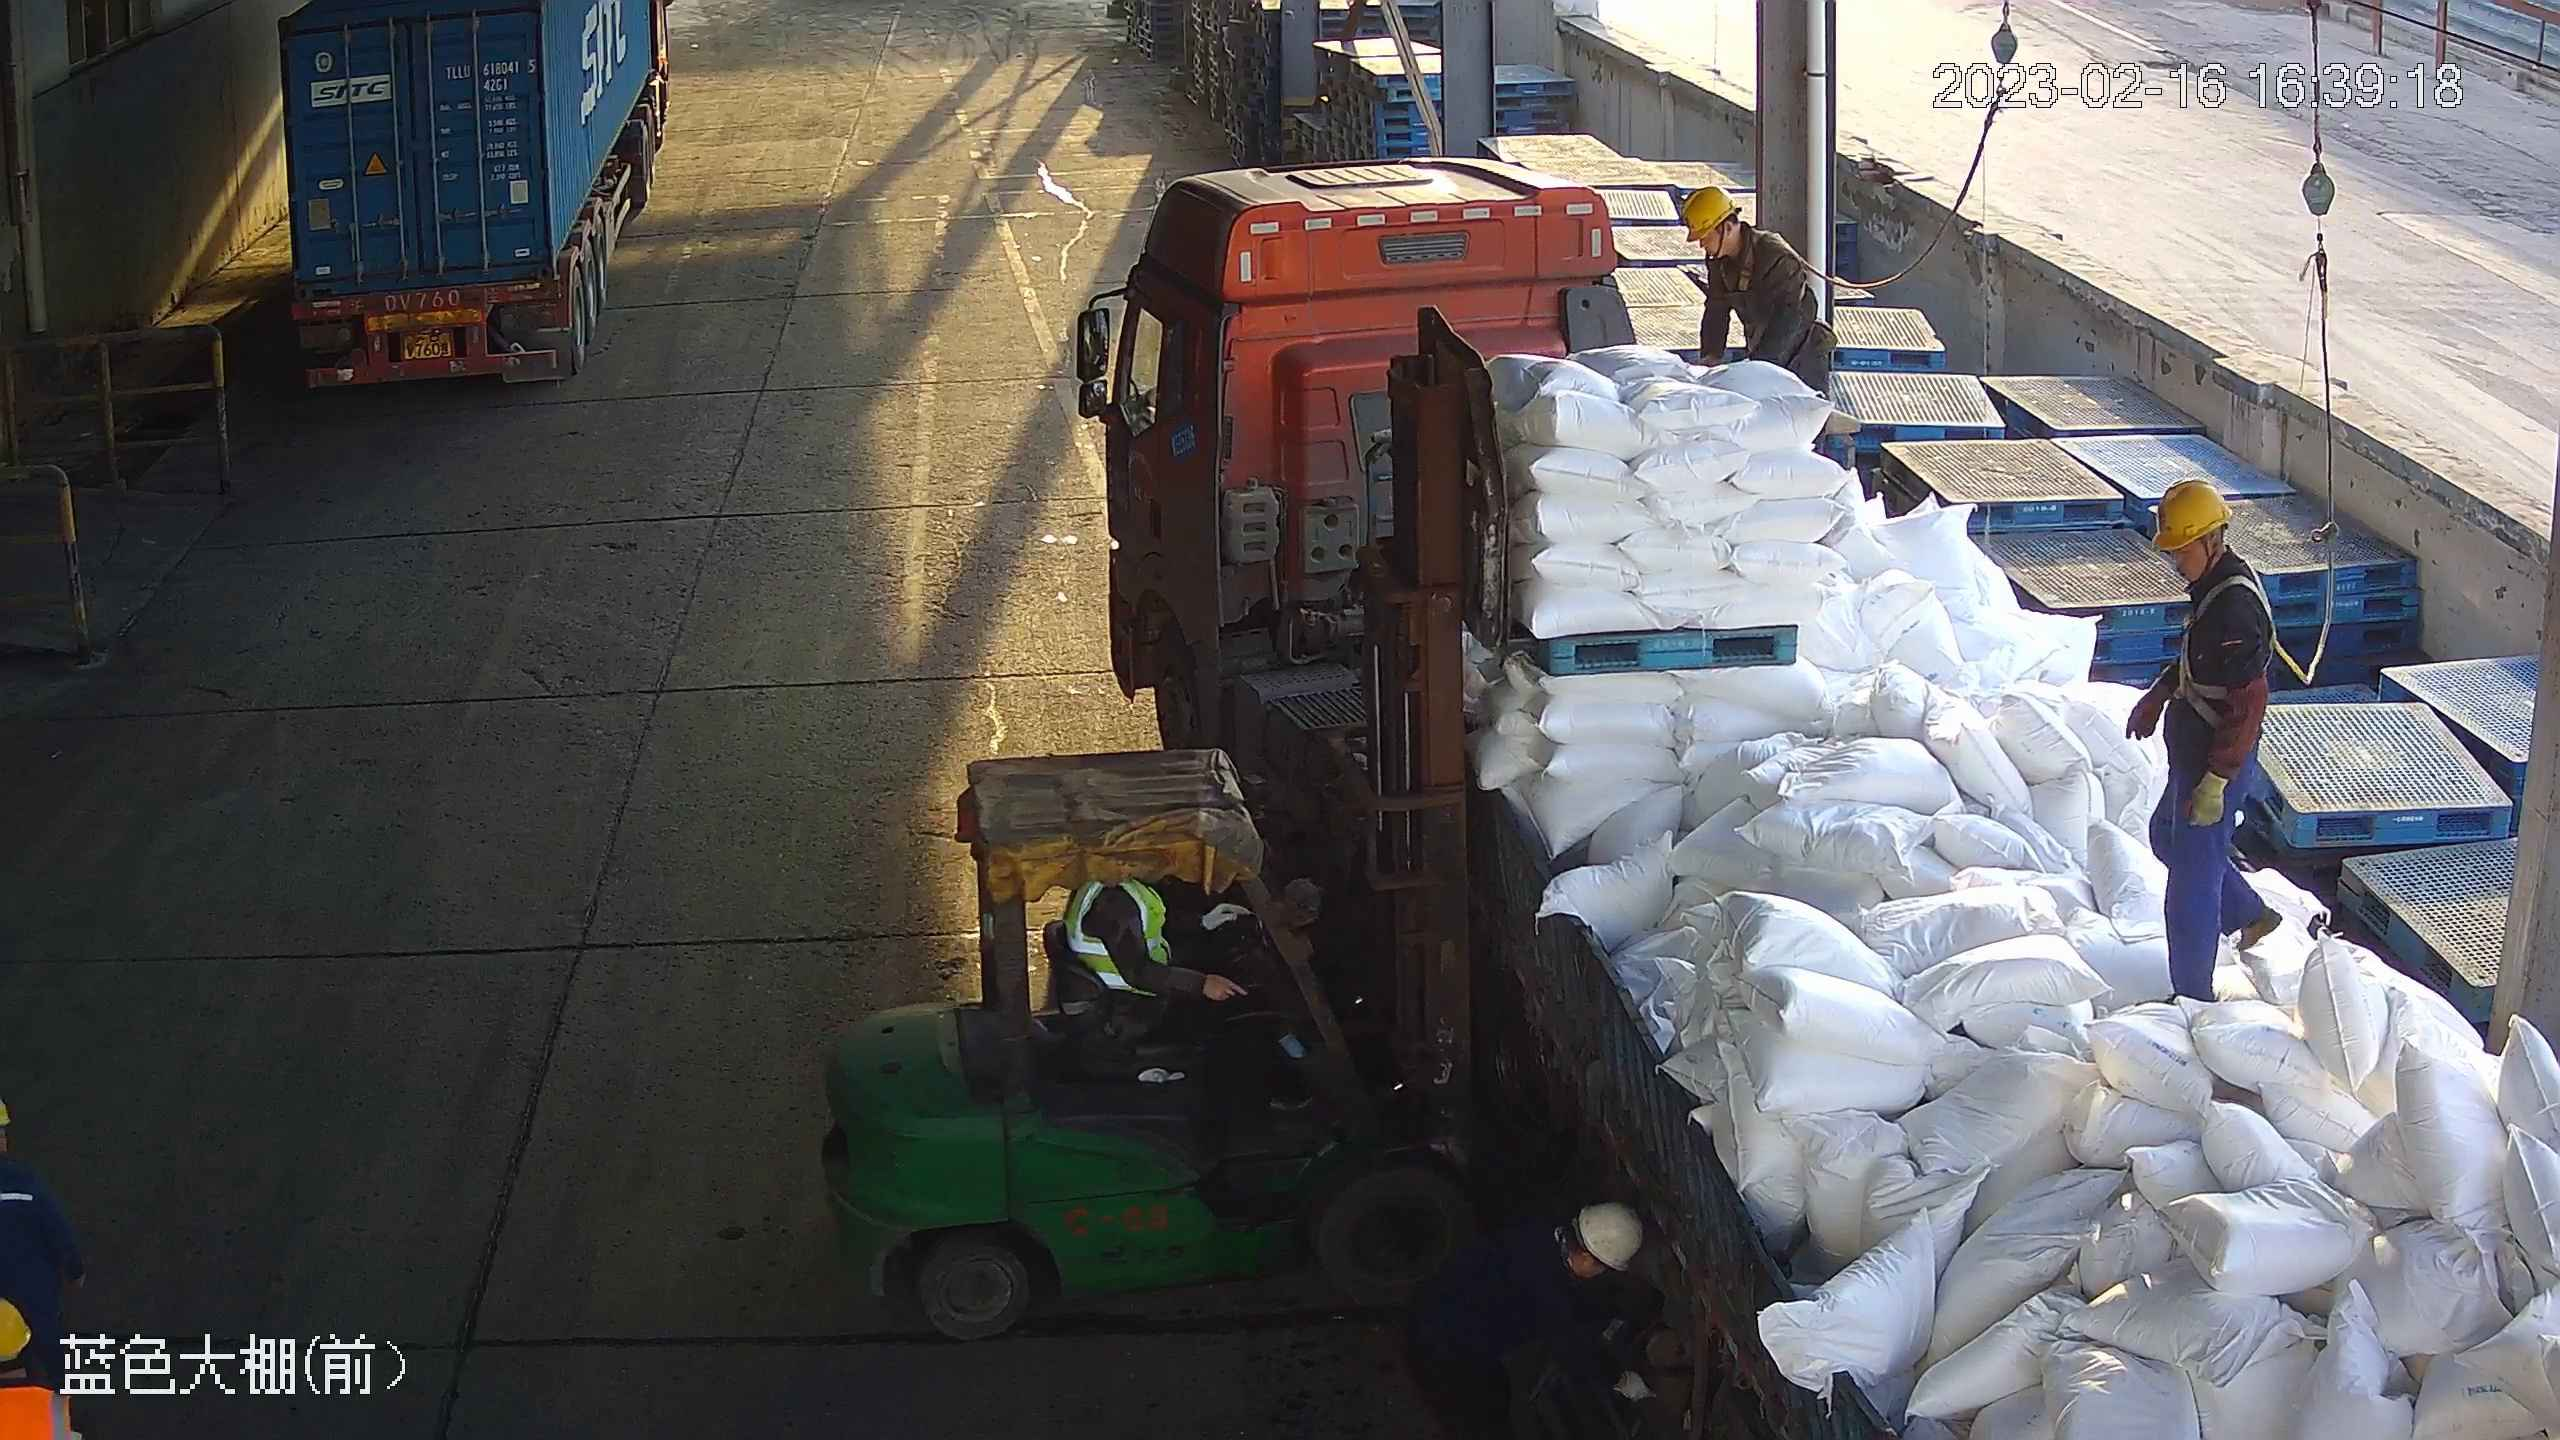belt: (2174, 571, 2296, 703), (1718, 241, 1781, 290)
head: (2146, 483, 2267, 630), (1681, 186, 1790, 285)
helmet: (2144, 479, 2237, 551), (1672, 186, 1741, 236)
people: (2120, 481, 2290, 1011), (1067, 883, 1327, 1125)
truck: (1079, 160, 2560, 1440), (272, 1, 676, 392)
